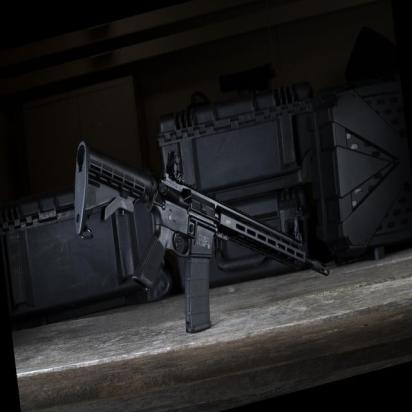Gun: (70, 130, 333, 332)
